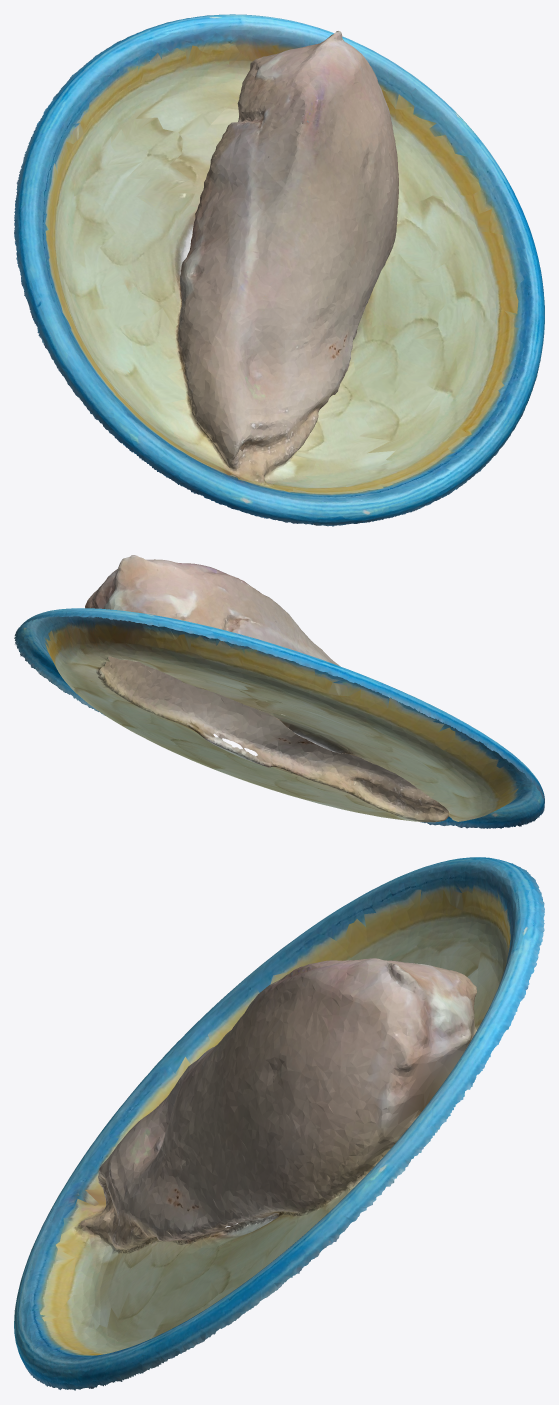
The model's file is Huehnerbrust.fbx.
3 renders of one model, top to bottom at view 1: azimuth 30°, elevation 25°; view 2: azimuth 150°, elevation 25°; view 3: azimuth 270°, elevation 25°, orthographic. The views are drawn at different scales.
Parts seen in each view (by area): view 1: Huehnerbrust_tex_high; view 2: Huehnerbrust_tex_high; view 3: Huehnerbrust_tex_high.
Part boxes in pixels (x1=…): Huehnerbrust_tex_high: x1=14, y1=14, x2=544, y2=526; Huehnerbrust_tex_high: x1=14, y1=555, x2=544, y2=828; Huehnerbrust_tex_high: x1=14, y1=857, x2=544, y2=1390.
Bounding box in the file's own units: 19.87 × 13.5 × 14.91.
